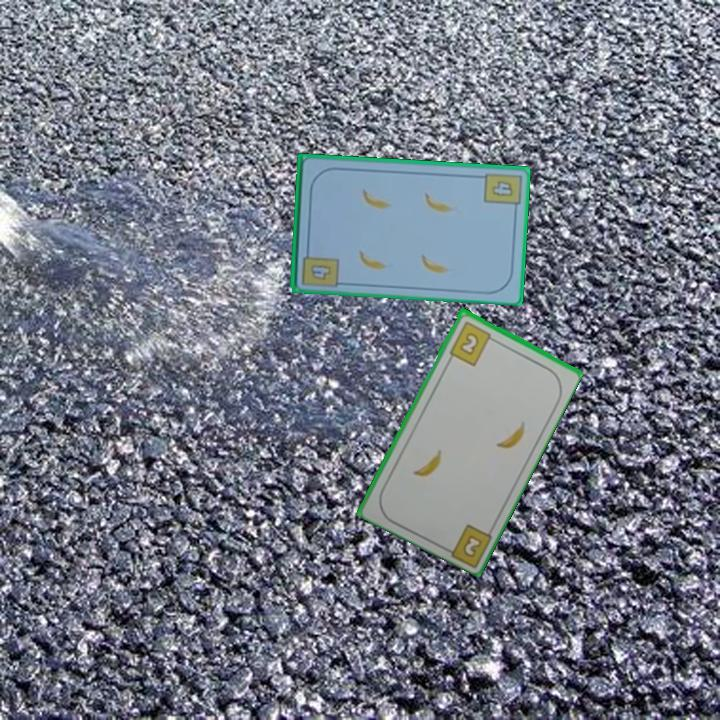2b: (446, 317, 498, 368), (459, 531, 485, 560)
4b: (481, 169, 523, 214), (307, 260, 334, 283)
